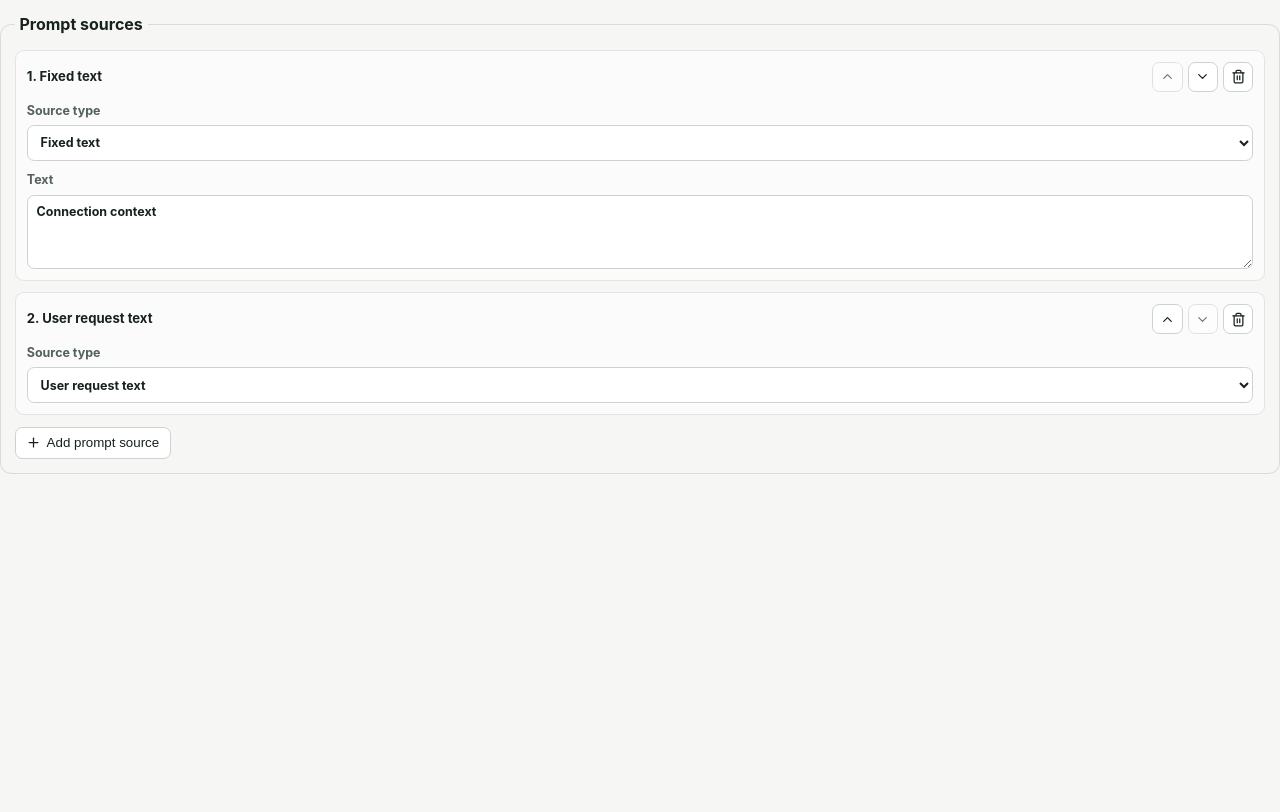
Test: Session Event definition editors › keeps prompt source ordering explicit and editable
What coordinates should you click on to do the following:
click the button named "Move prompt source 2 up"
I would click on:
 (1168, 319)
Its box is left=1152, top=304, right=1183, bottom=334.
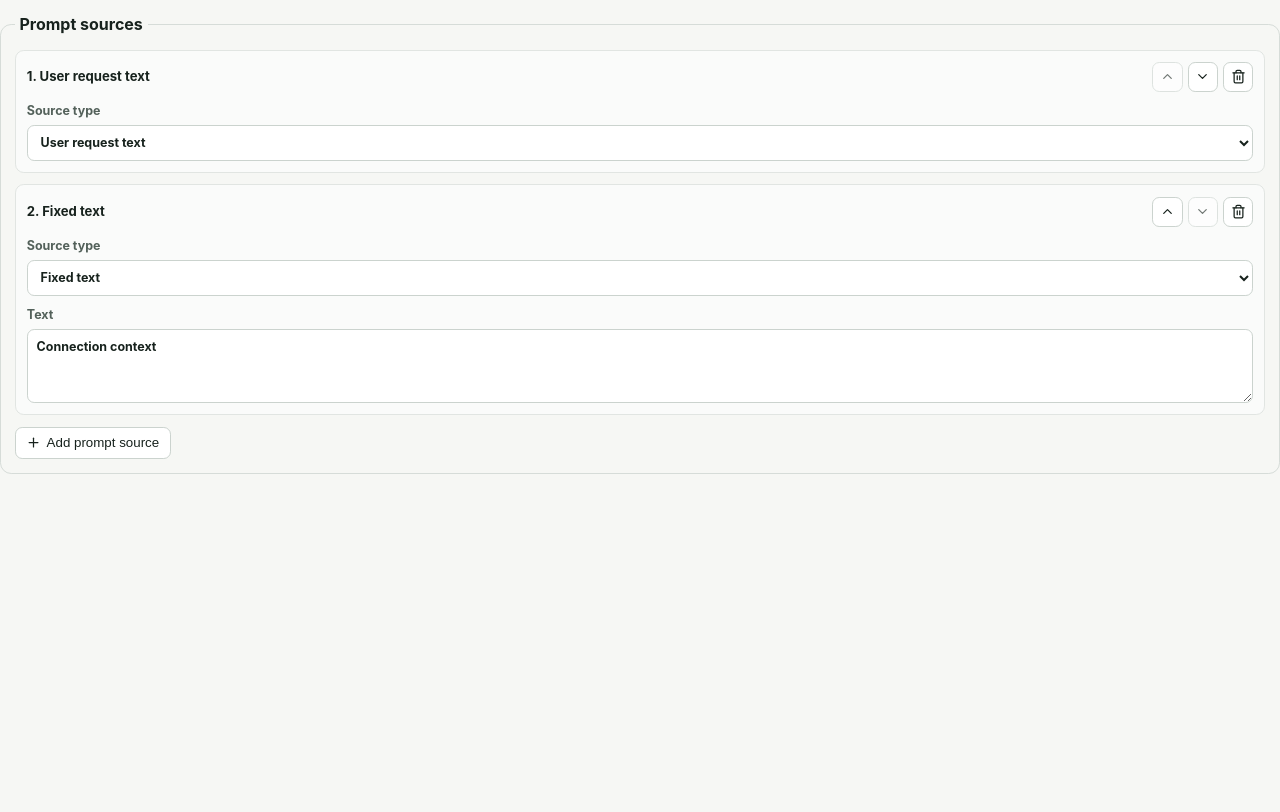
What coordinates should you click on to do the following:
click the button "Add prompt source"
I would click on:
 (93, 443)
Its box is left=15, top=427, right=171, bottom=459.
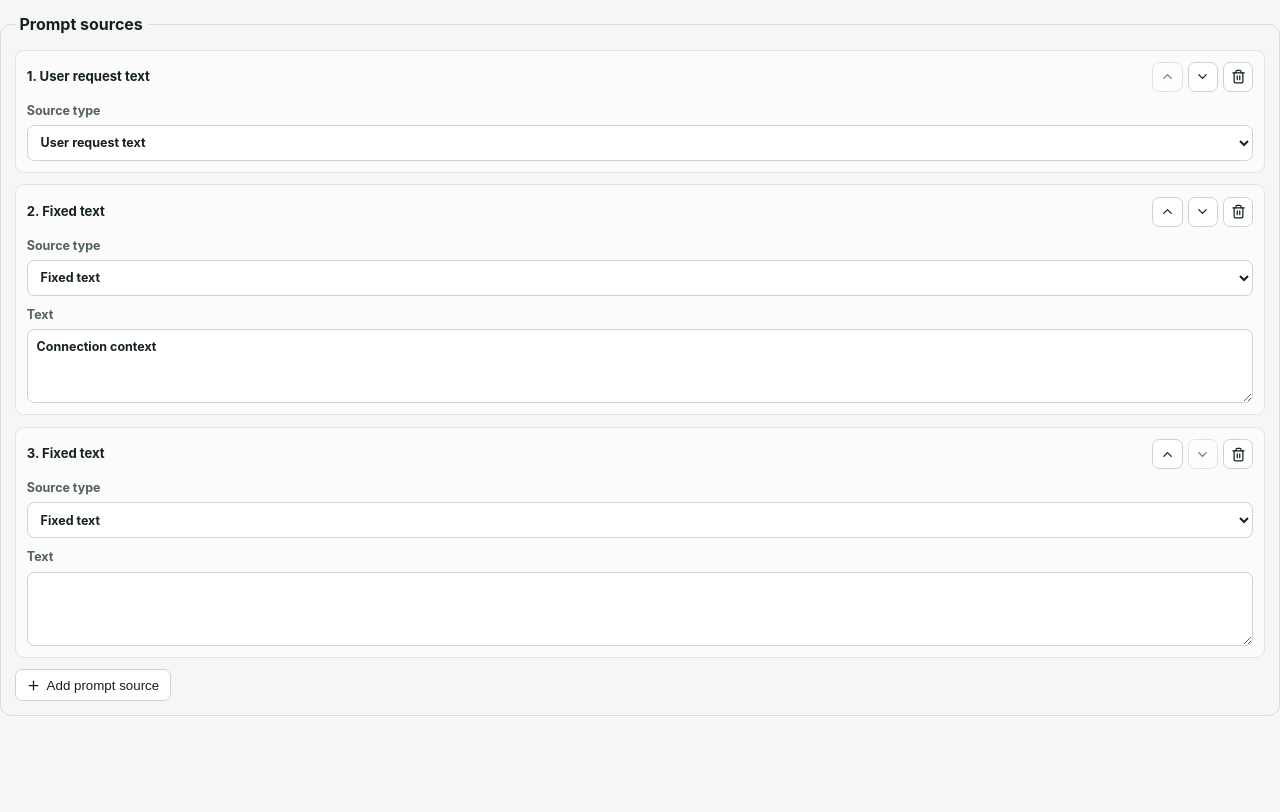
Expected: the number of dropdowns labelled "Source type" is 3, left=27, top=125, right=1253, bottom=161; left=27, top=260, right=1253, bottom=296; left=27, top=502, right=1253, bottom=538
